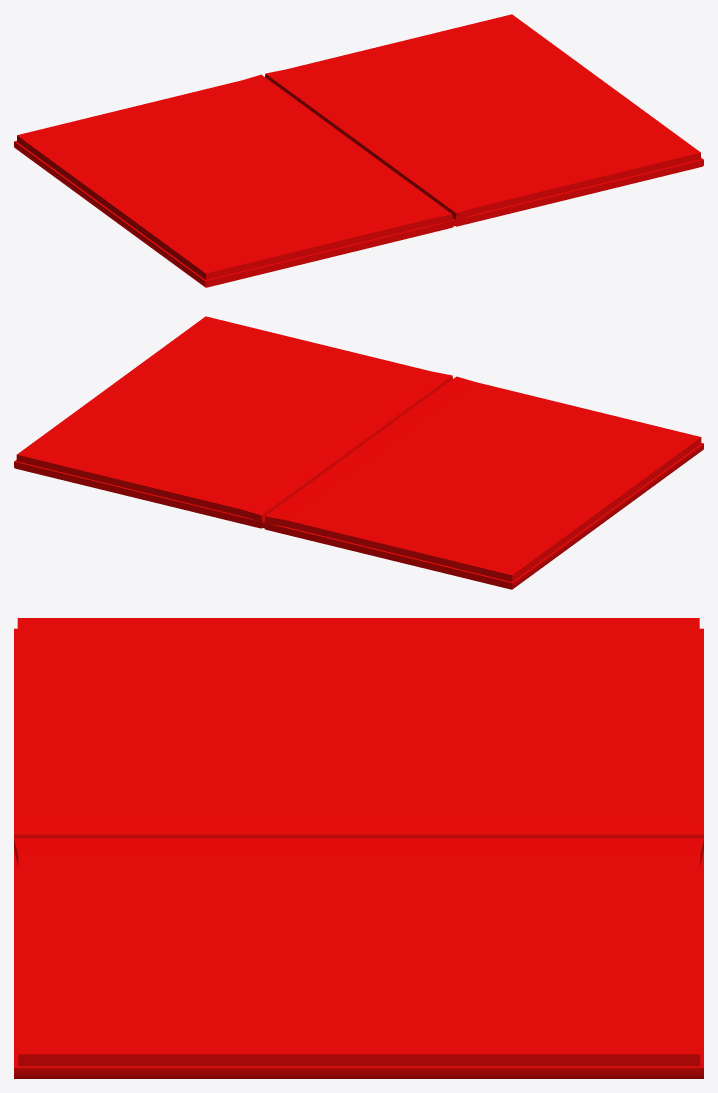
File: umgebung_heft_offen_low.FBX
3 views of the same model, one above another, from view 1: azimuth 30°, elevation 25°; view 2: azimuth 150°, elevation 25°; view 3: azimuth 270°, elevation 25° (orthographic). The views are drawn at different scales.
Visible parts, largest first — view 1: o_schmudelheft_offen_low; view 2: o_schmudelheft_offen_low; view 3: o_schmudelheft_offen_low.
Part boxes in pixels (x1,y1,x2,y2): o_schmudelheft_offen_low: (14,14,703,287); o_schmudelheft_offen_low: (14,316,703,589); o_schmudelheft_offen_low: (14,618,703,1078).
Size of the model in its own units: 42.18 by 28 by 1.08.
